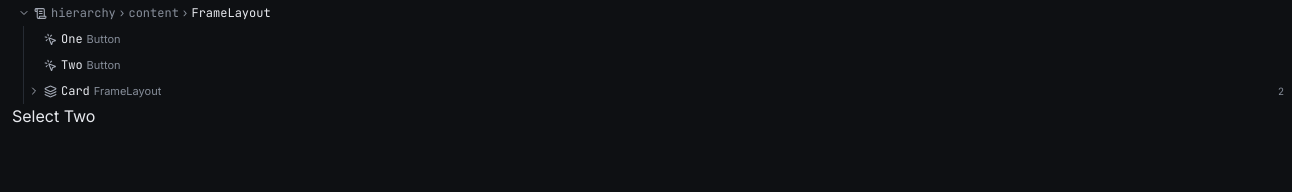
Test: ElementTree › keeps focus in the tree when the focused row is collapsed away
Press ArrowRight in the list item "Card FrameLayout 2", box [12,78,1291,104]
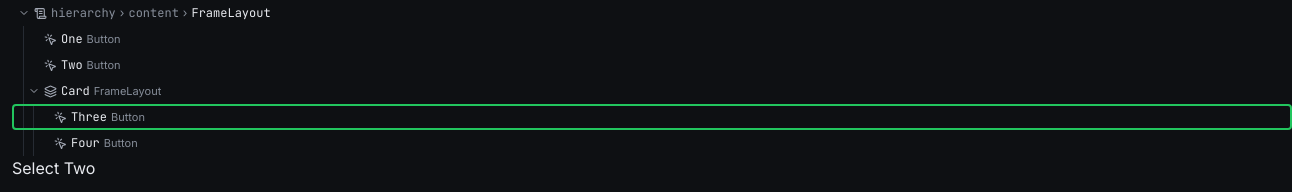
Click the 2nd element with class "omni-tree-row__caret".
click(34, 91)  # box [28,85,40,97]
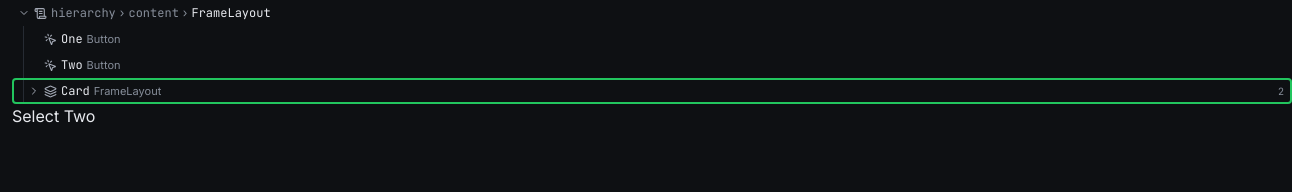
Expected: the text "Three" is gone
